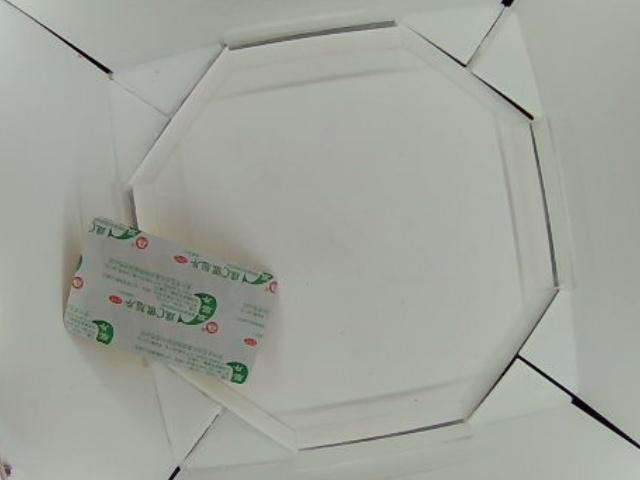Medicine: (64, 218, 278, 385)
